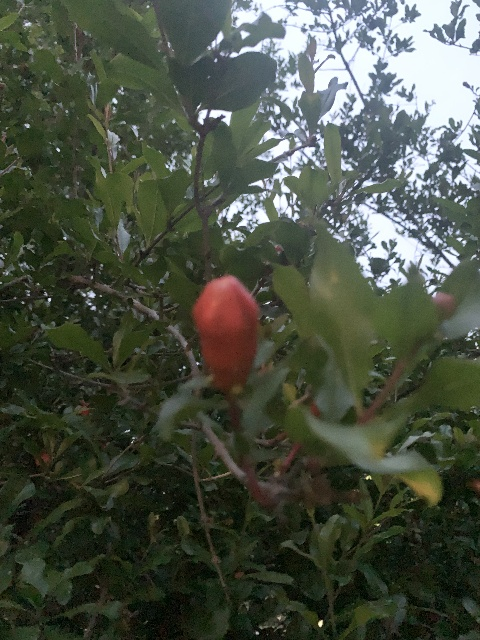bud: (192, 274, 260, 393)
